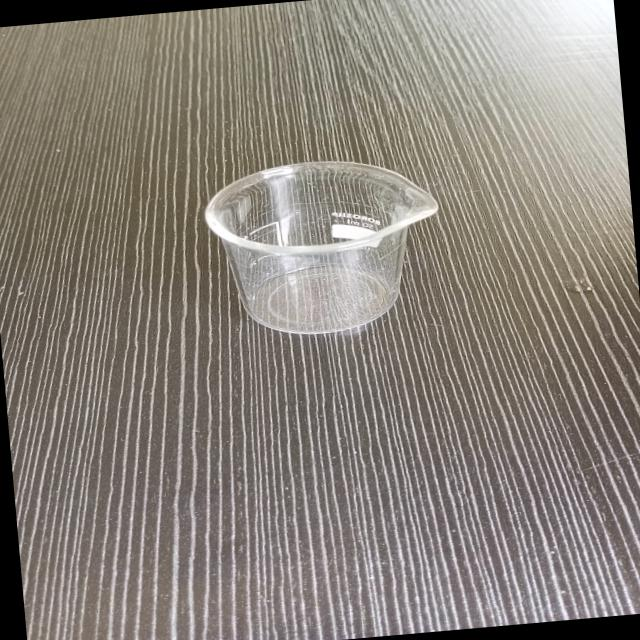beaker: (192, 146, 455, 347)
